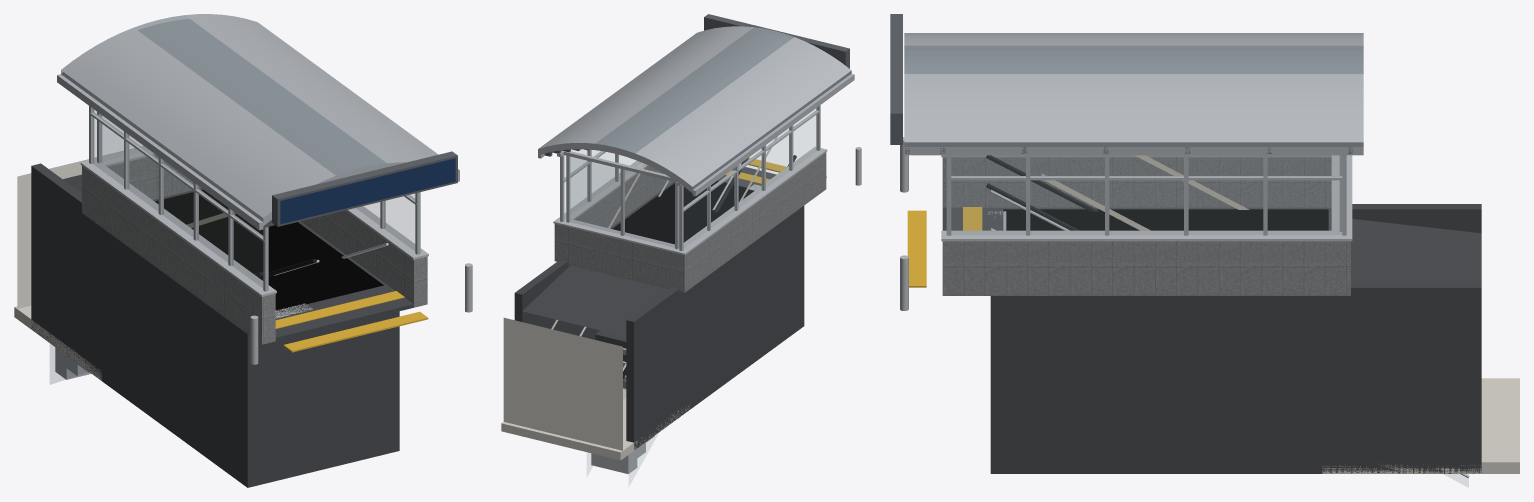
File: gongguan_mrt_exit.glb
3 renders of one model, left to right at view 1: azimuth 30°, elevation 25°; view 2: azimuth 150°, elevation 25°; view 3: azimuth 270°, elevation 25°, orthographic. The views are drawn at different scales.
Visible parts, largest first — view 1: PIT_mrt_vc_matte, mrt_vc_metal, mrt_base, mrt_sky, mrt_glass, PITMASK, mrt_vc_matte, SIGN_FACE_mrt, PIT_light, PIT_steps, PIT_floor, PIT_glass; view 2: mrt_vc_metal, PIT_mrt_vc_matte, PIT_light, mrt_base, mrt_glass, mrt_sky, PITMASK, PIT_floor, PIT_steps, mrt_vc_matte, PIT_glass; view 3: PIT_mrt_vc_matte, mrt_vc_metal, mrt_base, mrt_glass, mrt_sky, PITMASK, PIT_floor, mrt_vc_matte, PIT_lamp.
Part boxes in pixels (box(x1,y1,x2,y2)): PIT_mrt_vc_matte: box(31, 163, 399, 487); mrt_vc_metal: box(57, 14, 472, 364); mrt_base: box(82, 155, 427, 344); mrt_sky: box(134, 15, 386, 175); mrt_glass: box(93, 109, 414, 287); PITMASK: box(155, 189, 383, 311); mrt_vc_matte: box(153, 188, 428, 352); SIGN_FACE_mrt: box(280, 158, 455, 224); PIT_light: box(17, 146, 144, 308); PIT_steps: box(55, 243, 388, 379); PIT_floor: box(14, 305, 101, 380); PIT_glass: box(50, 344, 87, 384); mrt_vc_metal: box(538, 14, 861, 255); PIT_mrt_vc_matte: box(514, 155, 804, 450); PIT_light: box(503, 317, 622, 450); mrt_base: box(554, 152, 826, 292); mrt_glass: box(564, 108, 817, 247); mrt_sky: box(595, 27, 793, 153); PITMASK: box(612, 180, 754, 244); PIT_floor: box(501, 389, 689, 460); PIT_steps: box(579, 163, 760, 474); mrt_vc_matte: box(610, 157, 826, 228); PIT_glass: box(587, 379, 658, 485); PIT_mrt_vc_matte: box(986, 155, 1481, 473); mrt_vc_metal: box(890, 14, 1363, 310); mrt_base: box(942, 157, 1350, 295); mrt_glass: box(951, 155, 1341, 234); mrt_sky: box(904, 45, 1363, 73); PITMASK: box(1003, 209, 1328, 230); PIT_floor: box(1322, 378, 1519, 473); mrt_vc_matte: box(907, 207, 1331, 287); PIT_lamp: box(1041, 155, 1249, 230).
Size of the model in its own units: 4.54 by 7.53 by 9.88.
Materials: 10 (1 with a texture image).
